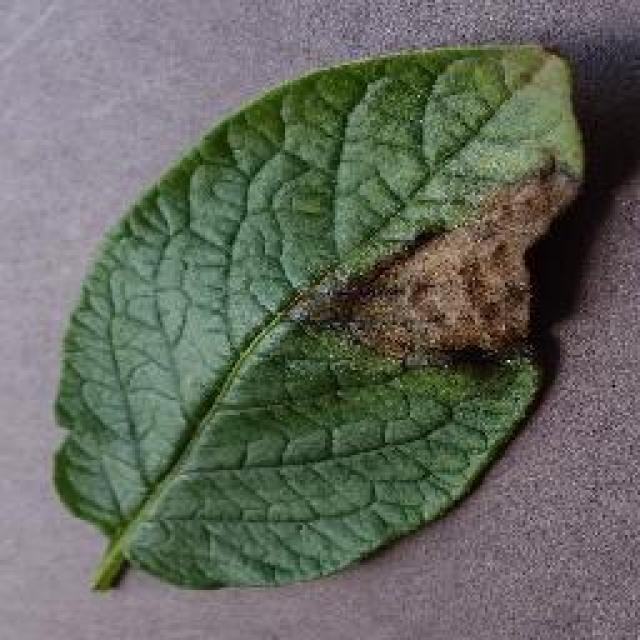late_blight: (48, 35, 590, 595)
